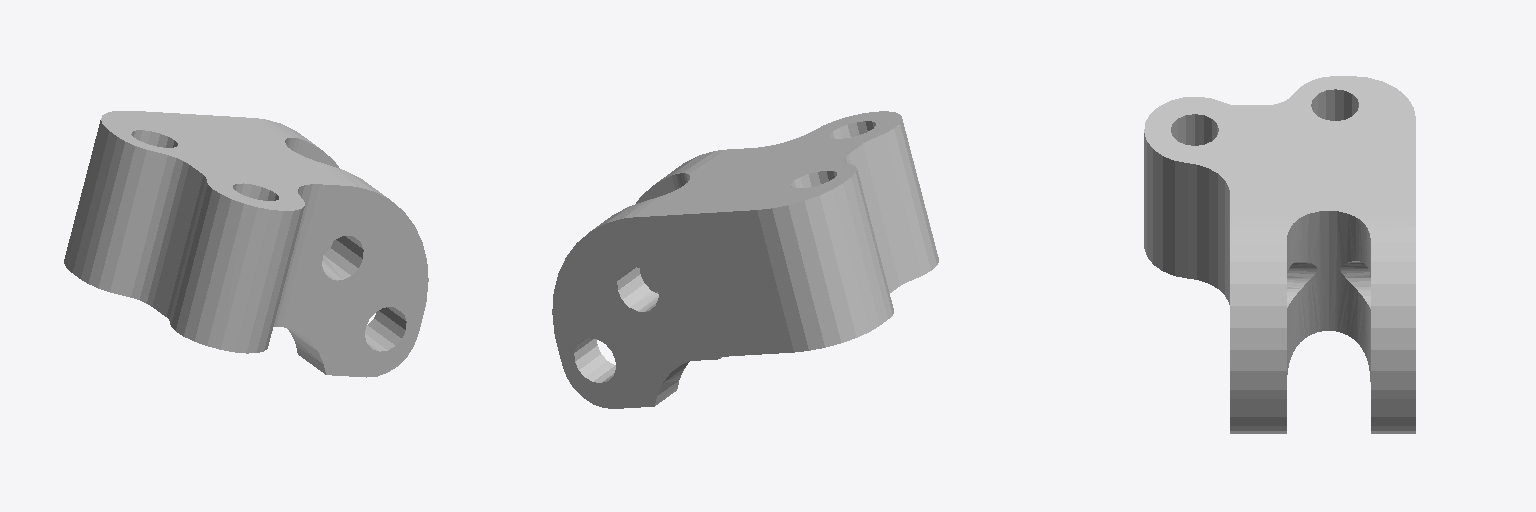
The picture shows the model from 3 angles: view 1: azimuth 30°, elevation 25°; view 2: azimuth 150°, elevation 25°; view 3: azimuth 270°, elevation 25°; orthographic projection.
Parts seen in each view (by area): view 1: Link11_R; view 2: Link11_R; view 3: Link11_R.
Part boxes in pixels (bbox=[...]): Link11_R: bbox=[64, 111, 428, 377]; Link11_R: bbox=[552, 111, 938, 408]; Link11_R: bbox=[1144, 76, 1415, 433].
Bounding box in the file's own units: 0.0211 × 0.0172 × 0.0168.